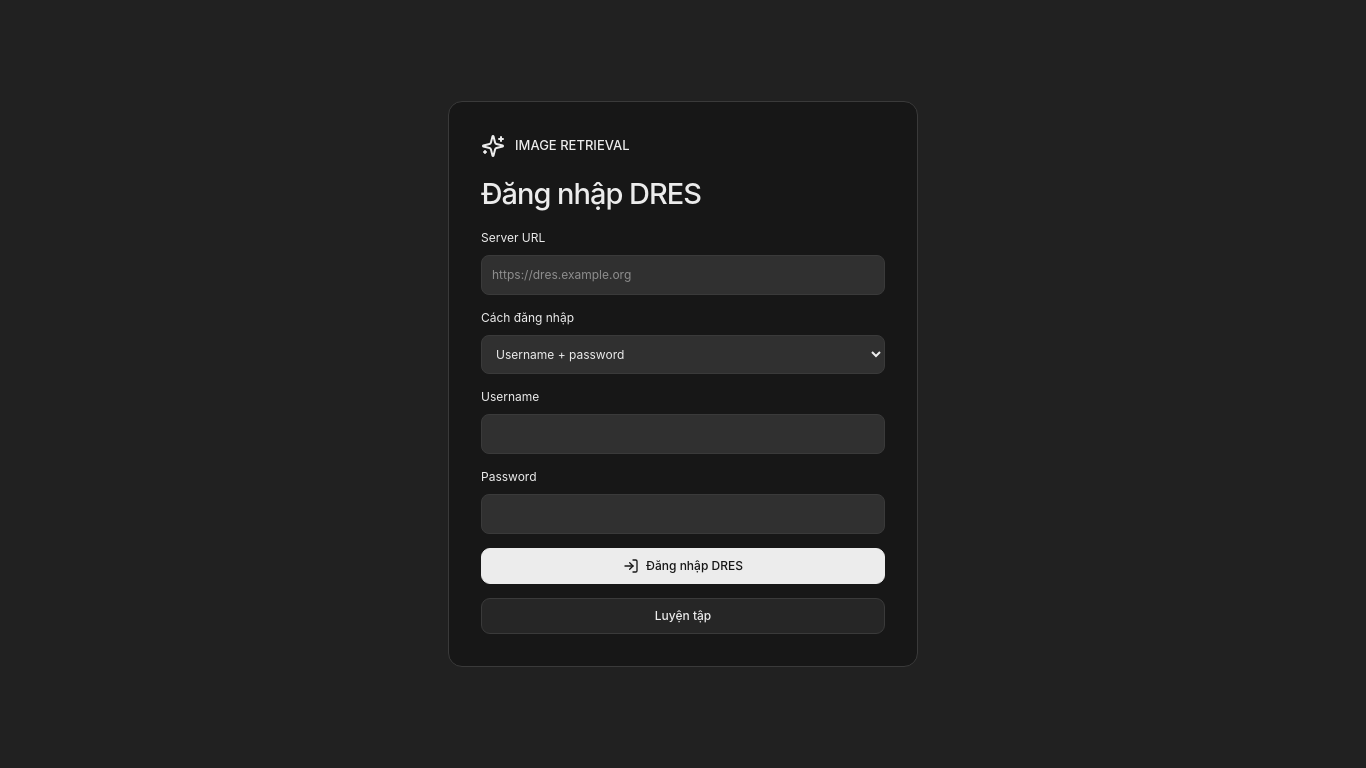
Test case: image workbench entry and shortcuts › shows DRES entry first and allows practice without credentials
Expected: the heading "Đăng nhập DRES" is shown, [481, 176, 701, 211]
Click the button "Luyện tập" at coordinates (683, 616), box [481, 598, 885, 634]
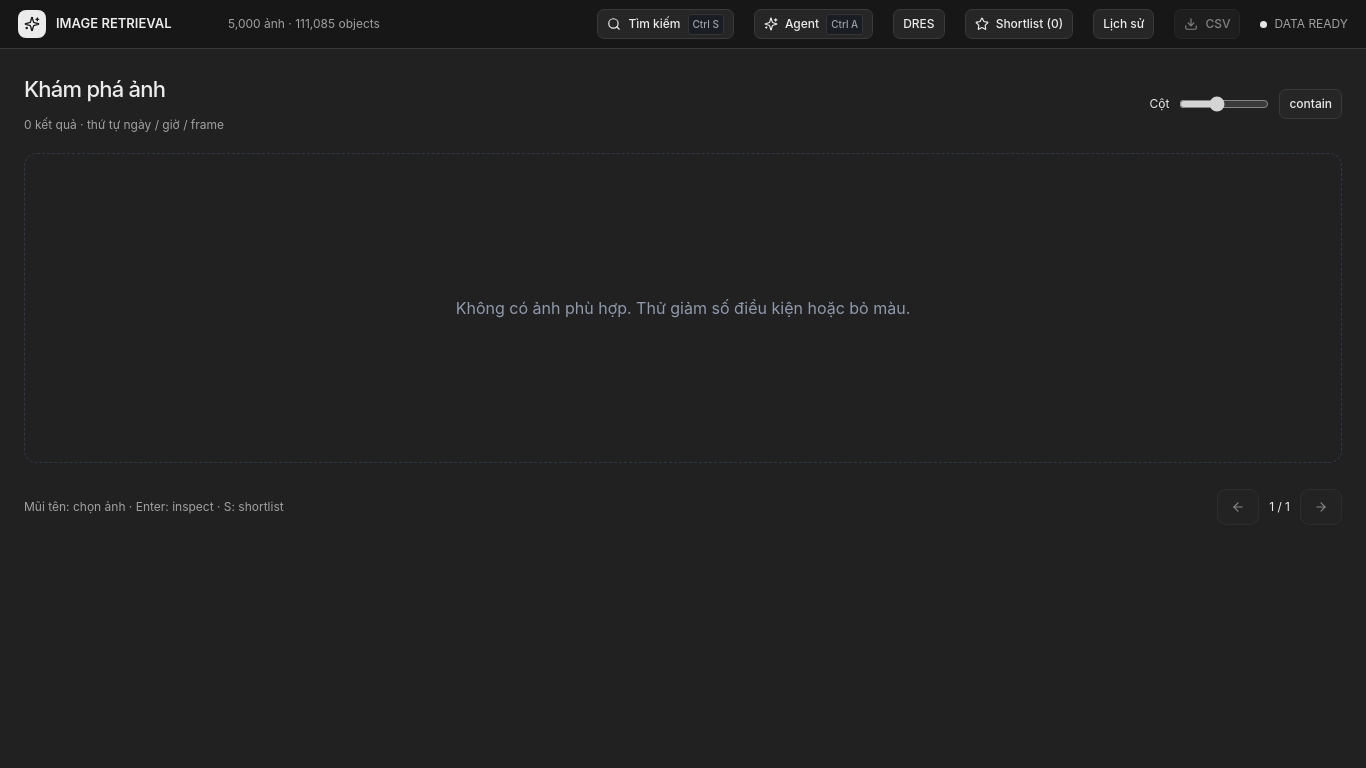
Now the heading "Khám phá ảnh" is shown, box [24, 76, 165, 102]
